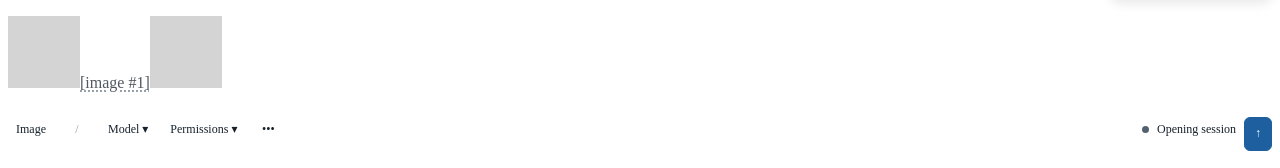
cancels a queued image without restoring or locking the new draft
Click the button with test id "prompt-submit" at x=1258, y=134, box [1244,117,1272,151]
Wait 10000 ms
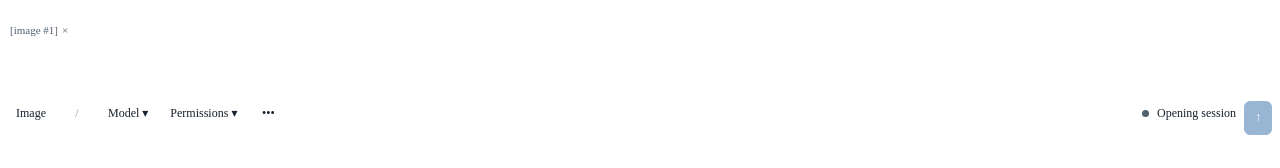
Click the button named "Cancel pending send" at x=70, y=24, box [60,8,80,40]
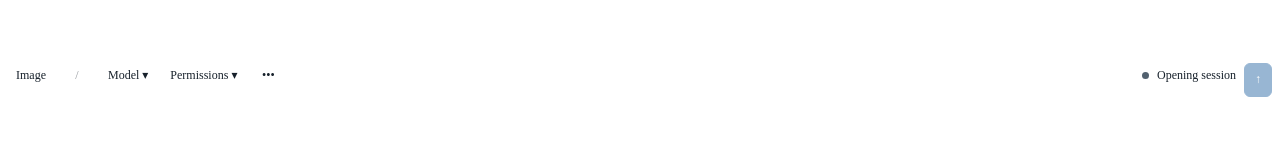
Result: the element with test id "pending-send" is gone
